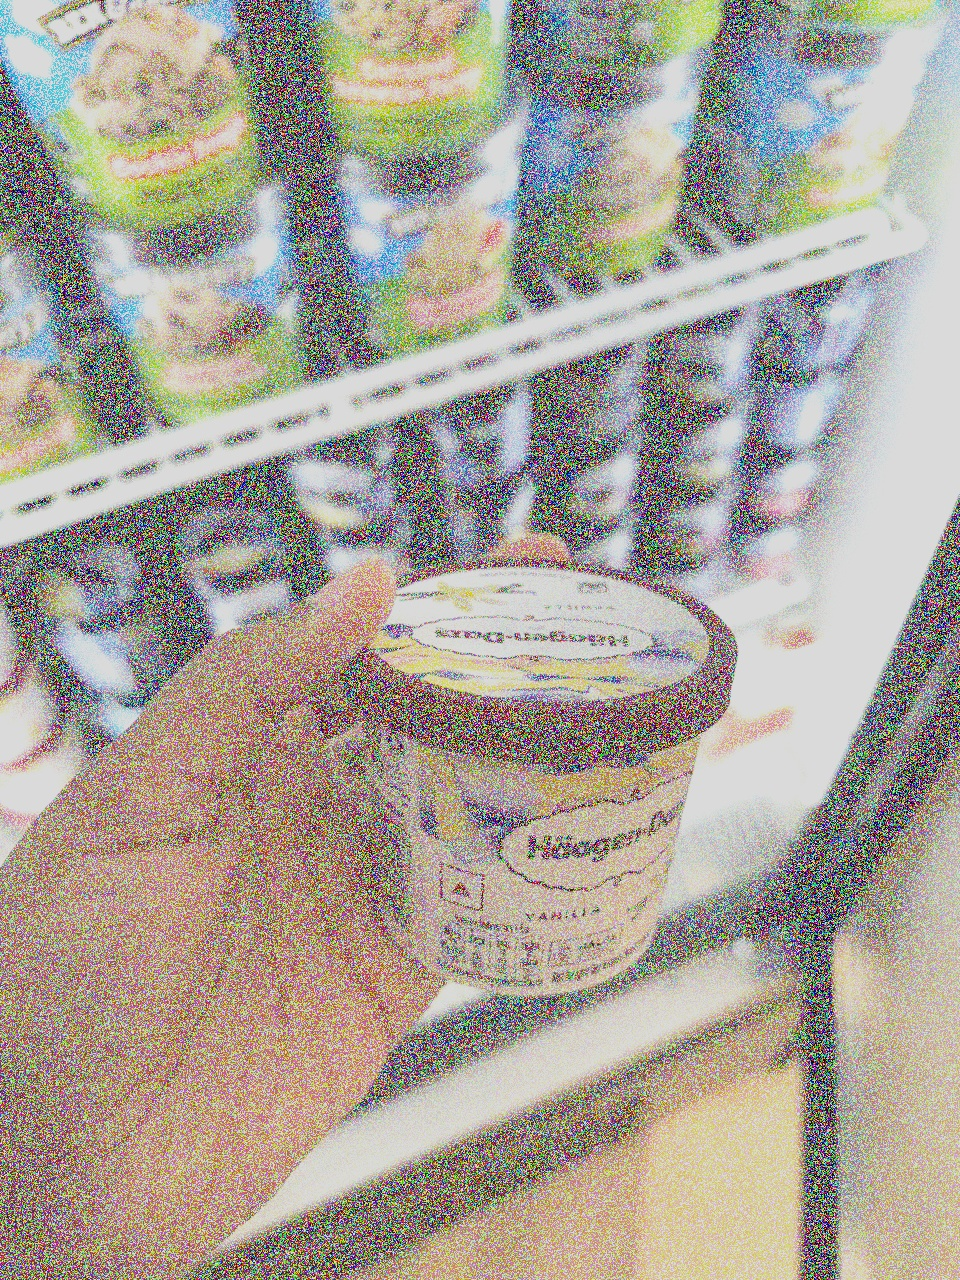Haagen-Dazs IceCream Tub: (318, 546, 750, 1021)
